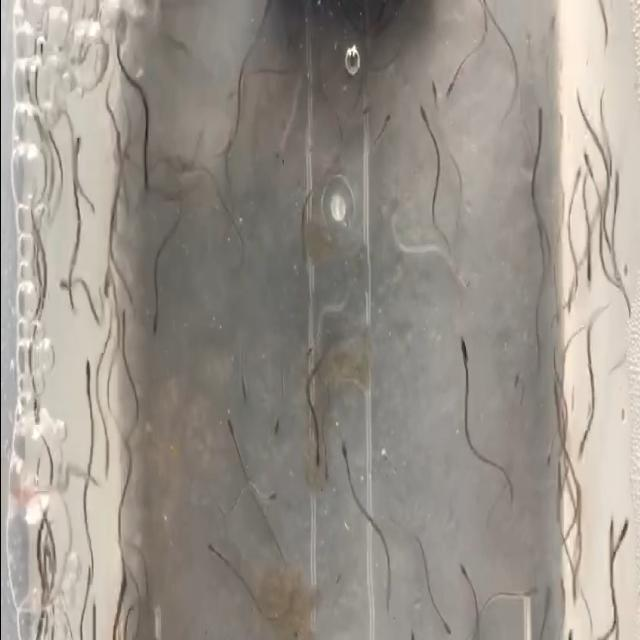active_glass_eel: (298, 443, 334, 487), (18, 467, 42, 527), (442, 75, 462, 126), (598, 500, 618, 550), (220, 412, 244, 451), (92, 262, 112, 308), (264, 132, 288, 170), (76, 348, 96, 388), (105, 552, 127, 588), (509, 361, 528, 401), (452, 551, 474, 582), (457, 331, 475, 368), (260, 470, 278, 506), (426, 71, 442, 111), (105, 24, 125, 56), (540, 440, 556, 479), (120, 288, 130, 350), (146, 314, 166, 342), (333, 434, 351, 464), (378, 104, 392, 142), (100, 450, 114, 488), (541, 567, 553, 611), (532, 100, 548, 132), (521, 573, 539, 601), (270, 412, 284, 448), (436, 609, 452, 640), (201, 530, 218, 559), (408, 104, 433, 122), (618, 512, 632, 544), (598, 224, 614, 250), (68, 132, 83, 158), (620, 294, 632, 321), (296, 250, 312, 268), (82, 199, 98, 217), (570, 576, 580, 604), (586, 267, 596, 293), (572, 168, 582, 194), (578, 436, 588, 461)
